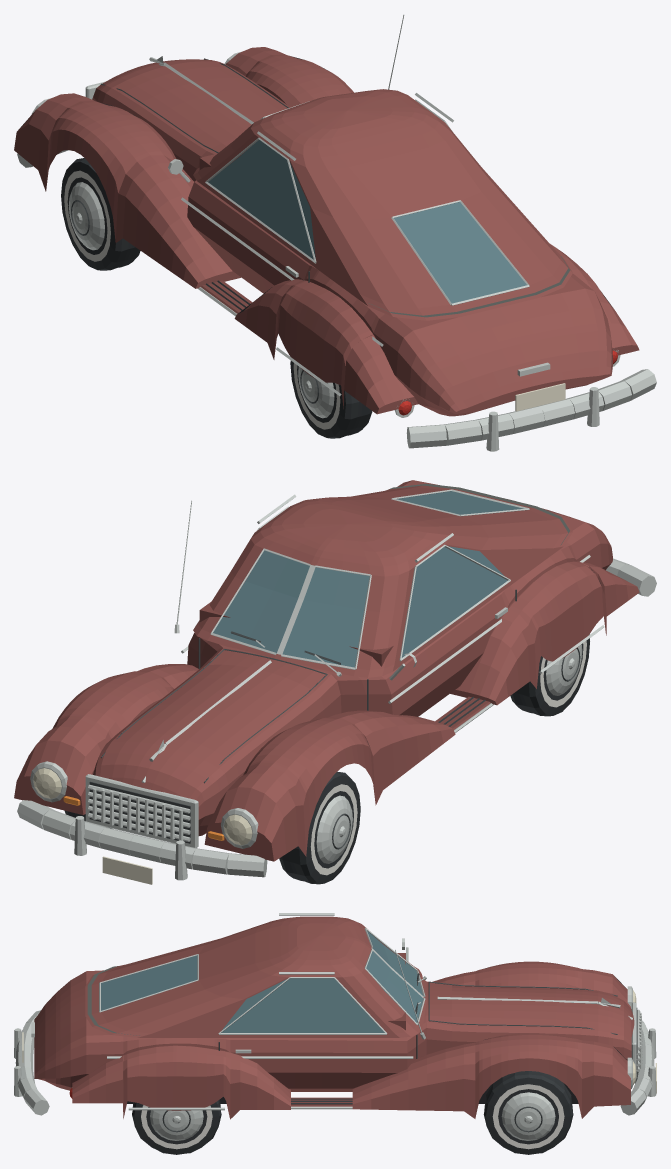
File: 16_coupe_48.glb
The picture shows the model from 3 angles, top to bottom: view 1: azimuth 30°, elevation 25°; view 2: azimuth 150°, elevation 25°; view 3: azimuth 270°, elevation 25°; orthographic projection. The views are drawn at different scales.
Visible parts, largest first — view 1: Body, Exterior_Details, Wheel_FL, Wheel_RL, Fine_Details, Interior; view 2: Body, Exterior_Details, Fine_Details, Wheel_FL, Wheel_RL, Interior; view 3: Body, Exterior_Details, Wheel_FR, Fine_Details, Wheel_RR, Interior.
Part boxes in pixels (bbox=[...]): Body: bbox=[14, 47, 639, 416]; Exterior_Details: bbox=[17, 51, 656, 451]; Wheel_FL: bbox=[61, 158, 140, 270]; Wheel_RL: bbox=[290, 361, 372, 438]; Fine_Details: bbox=[18, 14, 611, 408]; Interior: bbox=[199, 153, 570, 317]; Body: bbox=[14, 480, 639, 861]; Exterior_Details: bbox=[17, 494, 656, 884]; Fine_Details: bbox=[92, 489, 601, 840]; Wheel_FL: bbox=[279, 771, 360, 884]; Wheel_RL: bbox=[510, 634, 589, 716]; Interior: bbox=[199, 483, 569, 666]; Body: bbox=[34, 916, 634, 1119]; Exterior_Details: bbox=[14, 913, 656, 1115]; Wheel_FR: bbox=[483, 1071, 573, 1154]; Fine_Details: bbox=[99, 927, 642, 1109]; Wheel_RR: bbox=[132, 1099, 221, 1154]; Interior: bbox=[87, 953, 405, 1035].
Size of the model in its own units: 1.95 by 1.83 by 5.3.
